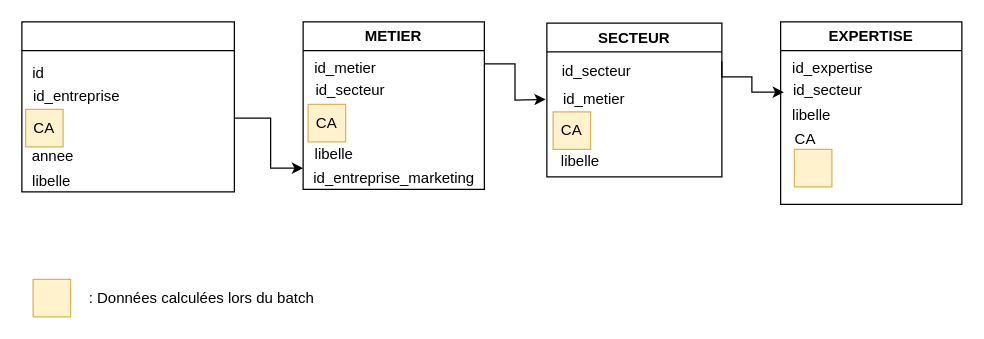
Some shapes in this 984 by 339 pixel diagram are drawn without their labels. The box of each missing label's shape, as (x1, y1, x2, y2) in pixels:
ENTREPRISE_MARKETING: (21, 21, 234, 192)
PART: (793, 148, 832, 187)
